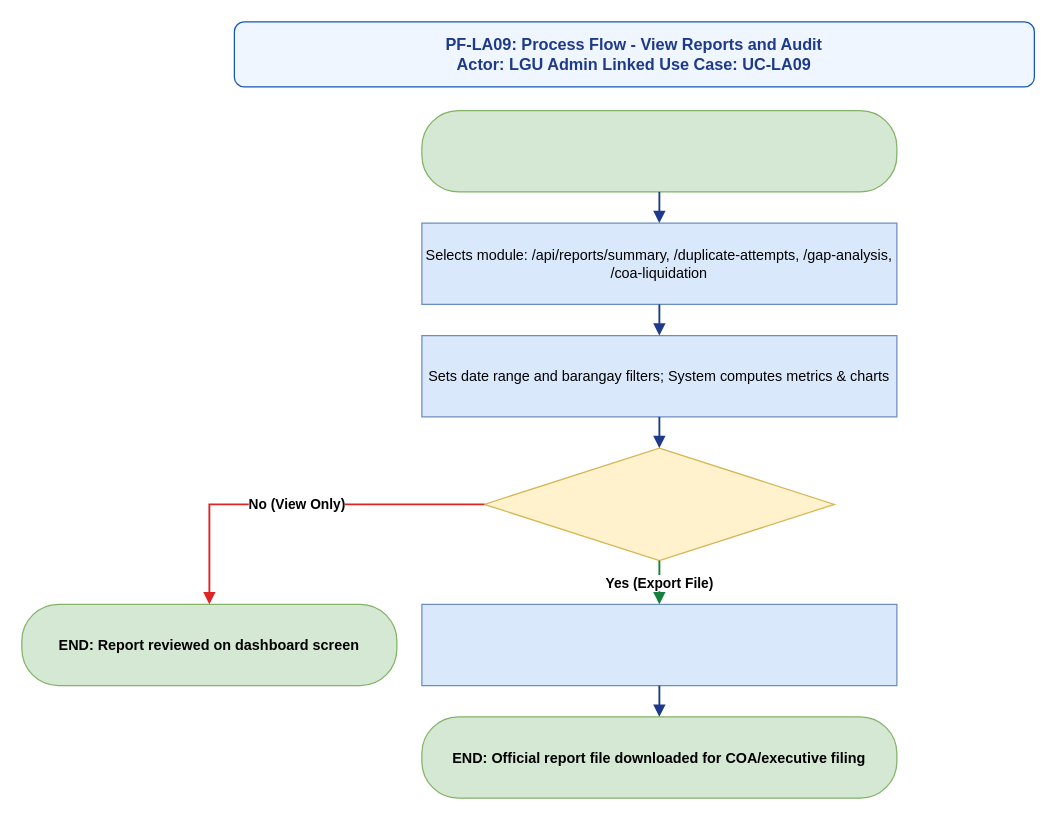
Image size: 1056x820. Some labels were removed from this diagram. Here are the shapes that lost their labels. From the top down, the box of each, then its label:
(421, 109, 897, 192): START: LGU Admin opens ReportsPage.jsx
(483, 447, 834, 561): Export official report to PDF or CSV?
(421, 603, 897, 686): System renders downloadable compliance documentation file
